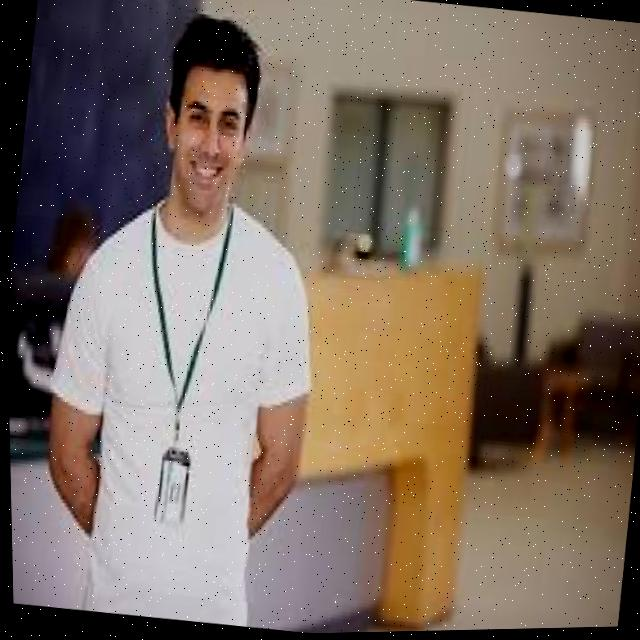id_card: (99, 191, 247, 545)
